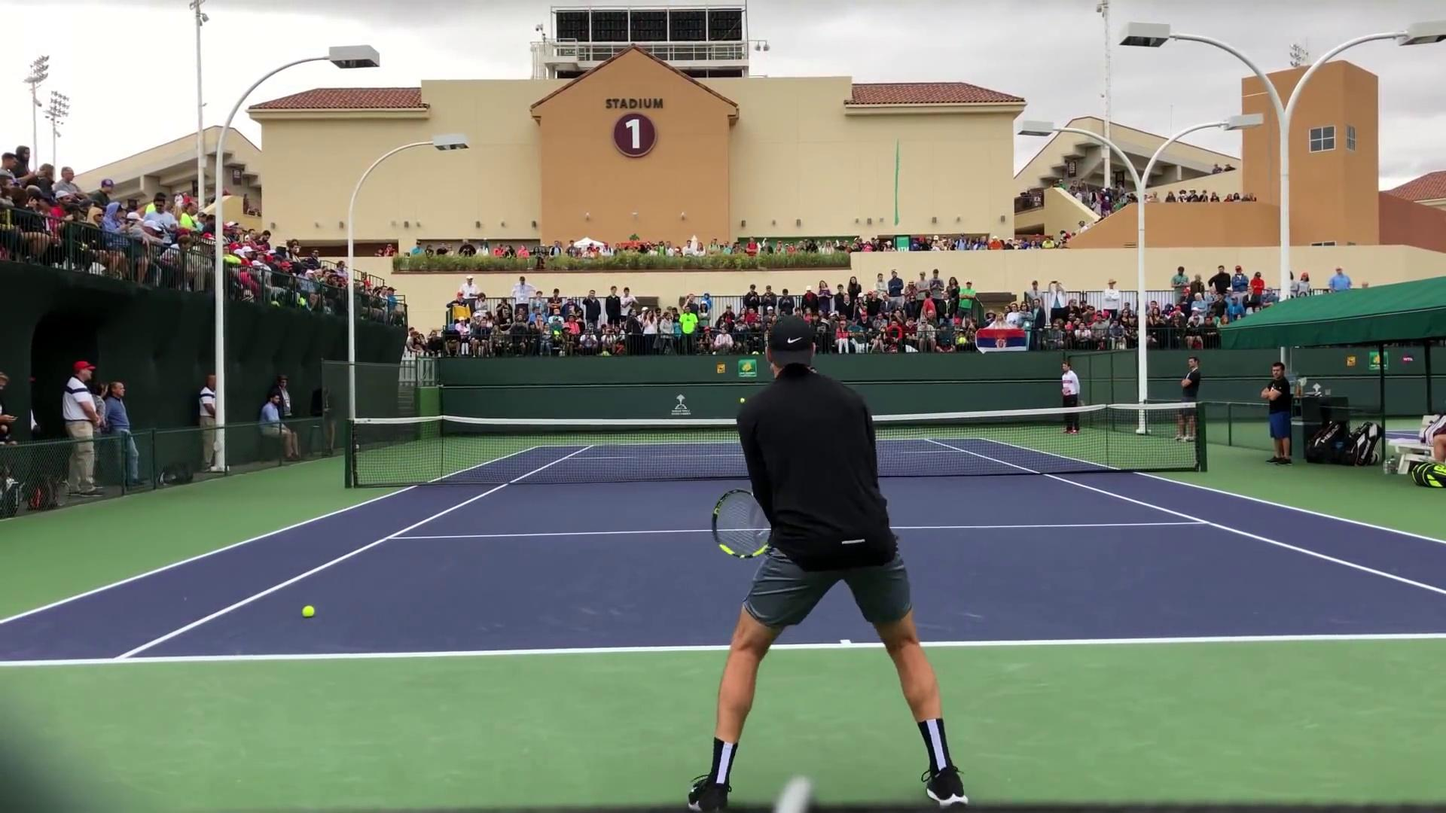ball: (302, 605, 315, 619), (738, 396, 746, 403)
